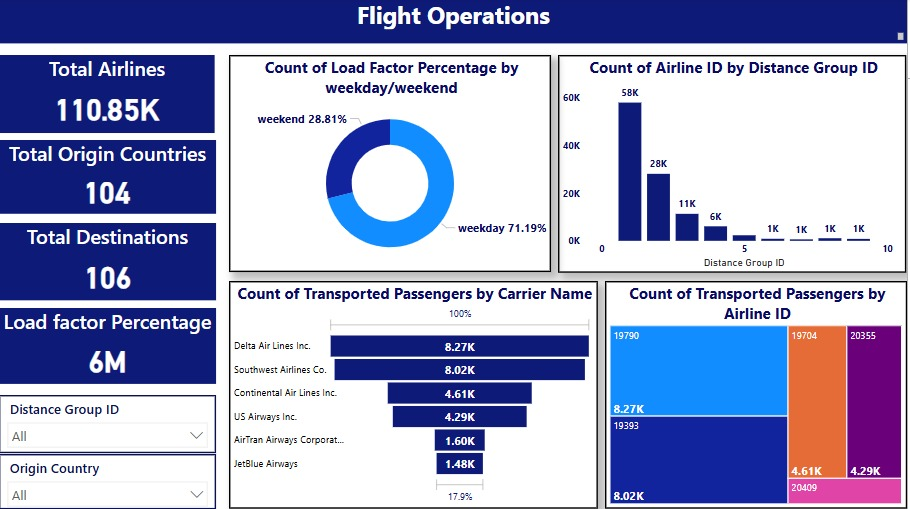

The dashboard page shown, as its layout file describes it:
{"tool":"powerbi","page":{"name":"Page 2","canvas":[1280,720],"ordinal":1},"visuals":[{"type":"textbox","title":"Flight Operations","box":[0,0,1280.3,63.9],"z":0},{"type":"card","title":"Total Airlines","fields":{"Values":["CountNonNull(sql_data-set.Airline ID)"]},"box":[0,80,304.3,110],"z":1000},{"type":"card","title":"Total Origin Countries","fields":{"Values":["Count(sql_data-set.Origin Country)"]},"box":[0,200,305.7,104.3],"z":2000},{"type":"card","title":"Total Destinations","fields":{"Values":["Count(sql_data-set.Destination Country)"]},"box":[0,317.1,305.7,108.6],"z":3000},{"type":"columnChart","fields":{"Category":["sql_data-set.Distance Group ID"],"Y":["CountNonNull(sql_data-set.Airline ID)"]},"box":[788.6,80,491.4,307.1],"z":4000},{"type":"card","title":"Load factor Percentage","fields":{"Values":["Sum(sql_data-set.Load_factor)"]},"box":[0,437.1,305.7,107.1],"z":5000},{"type":"donutChart","fields":{"Y":["CountNonNull(sql_data-set.Load Factor Percentage)"],"Category":["sql_data-set.weekday/weekend"]},"box":[324.3,80,454.3,305.7],"z":6000},{"type":"funnel","fields":{"Category":["sql_data-set.Carrier Name"],"Y":["CountNonNull(sql_data-set.Transported Passengers)"]},"box":[324.3,398.6,520,321.4],"z":7000},{"type":"treemap","fields":{"Group":["sql_data-set.Airline ID"],"Values":["CountNonNull(sql_data-set.Transported Passengers)"]},"box":[854.3,398.6,425.7,321.4],"z":8000},{"type":"slicer","fields":{"Values":["sql_data-set.Distance Group ID"]},"box":[0,560,306,82],"z":9000},{"type":"slicer","fields":{"Values":["sql_data-set.Origin Country"]},"box":[0,642.5,306.2,77.5],"z":10000}]}

Visuals, with their boxes in screenshot pixels (x1, y1, x2, y2), scaled from the page's 1280x720 canvas onto the 910x509 screenshot:
"Flight Operations" textbox: (0,0,909,45)
"Total Airlines" card: (0,57,216,134)
"Total Origin Countries" card: (0,141,217,215)
"Total Destinations" card: (0,224,217,301)
columnChart - sql_data-set.Distance Group ID x CountNonNull(sql_data-set.Airline ID): (561,57,909,274)
"Load factor Percentage" card: (0,309,217,385)
donutChart - CountNonNull(sql_data-set.Load Factor Percentage) x sql_data-set.weekday/weekend: (231,57,554,273)
funnel - sql_data-set.Carrier Name x CountNonNull(sql_data-set.Transported Passengers): (231,282,600,508)
treemap - sql_data-set.Airline ID x CountNonNull(sql_data-set.Transported Passengers): (607,282,909,508)
slicer - sql_data-set.Distance Group ID: (0,396,218,454)
slicer - sql_data-set.Origin Country: (0,454,218,508)
